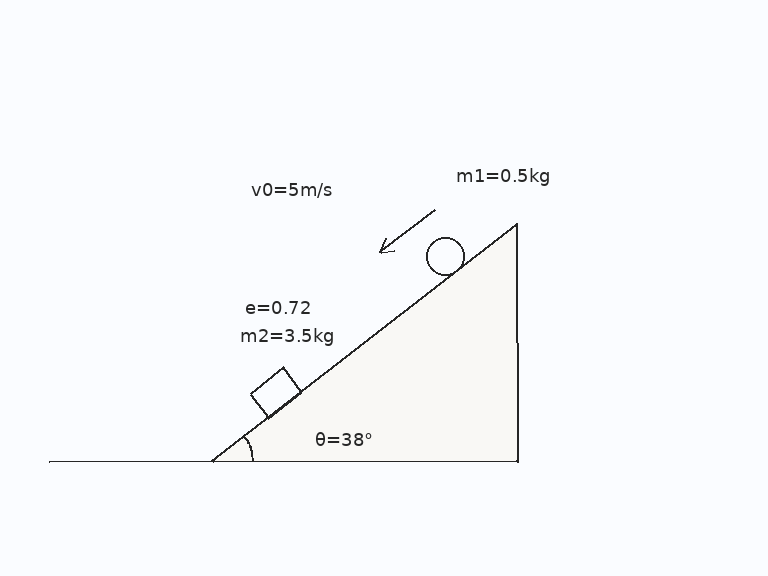ball: (424, 235, 466, 277)
block: (248, 366, 303, 420)
ramp: (211, 222, 518, 463)
